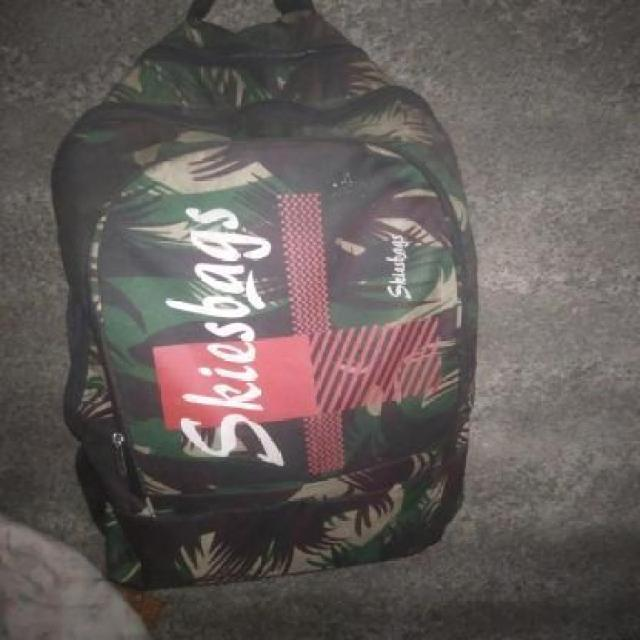backpack: (46, 0, 486, 594)
